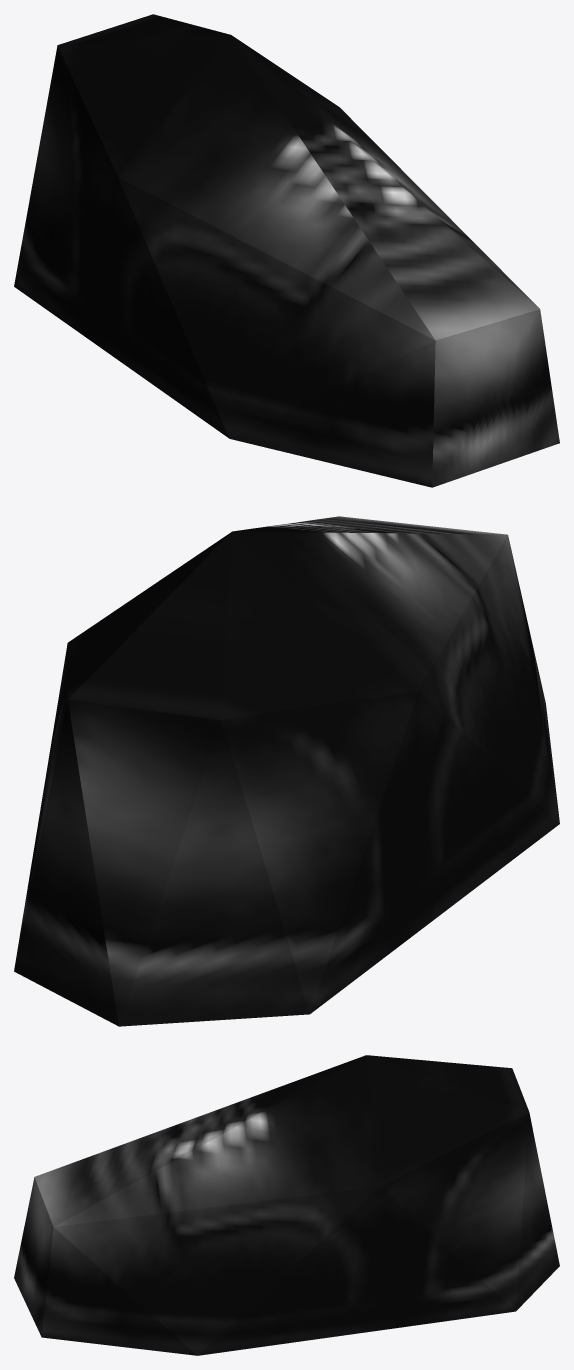
File: R_Foot.obj
3 renders of one model, top to bottom at view 1: azimuth 30°, elevation 25°; view 2: azimuth 150°, elevation 25°; view 3: azimuth 270°, elevation 25°, orthographic. The views are drawn at different scales.
Visible parts, largest first — view 1: R_Foot; view 2: R_Foot; view 3: R_Foot.
Part boxes in pixels (box(x1,y1,x2,y2)): R_Foot: box(14, 14, 559, 487); R_Foot: box(14, 516, 559, 1026); R_Foot: box(14, 1055, 559, 1355).
Bounding box in the file's own units: 0.3877 × 0.3476 × 0.737.
